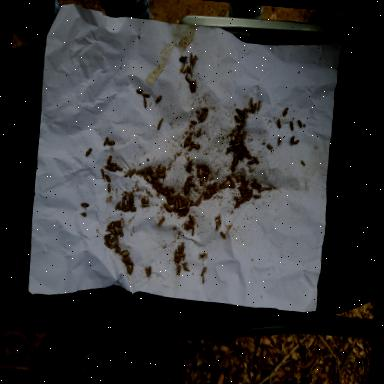pbw: (257, 98, 264, 114), (200, 264, 208, 278), (242, 189, 253, 199), (192, 55, 200, 68), (122, 169, 132, 179), (80, 202, 89, 213), (154, 94, 162, 106), (274, 136, 282, 148), (140, 98, 148, 109), (188, 215, 196, 226), (201, 112, 208, 124), (129, 192, 136, 204), (252, 100, 258, 114), (163, 203, 172, 212), (136, 168, 146, 176), (234, 200, 242, 210), (188, 160, 193, 176), (244, 150, 252, 160), (179, 62, 185, 75), (184, 181, 190, 194), (156, 119, 162, 132), (103, 135, 109, 147), (158, 216, 164, 228), (179, 54, 188, 62), (196, 166, 202, 178), (100, 168, 106, 180), (231, 156, 238, 166), (288, 136, 295, 146), (191, 143, 201, 150), (101, 164, 112, 170), (186, 140, 194, 148), (198, 252, 206, 260), (160, 188, 168, 196), (156, 170, 164, 178), (252, 156, 260, 164), (110, 235, 118, 243), (188, 180, 196, 188), (104, 174, 112, 182), (114, 165, 123, 172), (240, 120, 247, 129), (129, 168, 135, 178), (145, 264, 150, 276), (176, 266, 182, 276), (186, 200, 192, 210), (283, 107, 289, 117), (118, 228, 124, 238), (106, 140, 116, 146), (115, 201, 121, 211), (181, 242, 186, 254), (243, 108, 248, 120), (298, 118, 304, 128), (250, 184, 260, 190), (86, 148, 92, 158), (242, 131, 247, 143), (136, 88, 146, 94), (188, 130, 193, 142), (196, 198, 202, 208), (202, 251, 208, 261), (289, 120, 294, 132), (126, 200, 133, 208), (246, 106, 253, 114), (186, 76, 194, 83), (171, 196, 178, 204), (241, 142, 248, 150), (220, 232, 227, 240), (229, 138, 236, 146), (159, 166, 166, 174), (104, 225, 112, 232), (129, 265, 134, 276), (147, 266, 152, 277), (166, 197, 172, 206), (235, 108, 244, 114), (184, 208, 190, 217), (236, 125, 242, 134), (107, 155, 112, 165), (107, 184, 112, 194), (118, 205, 128, 210), (186, 66, 191, 76), (117, 246, 122, 256), (186, 224, 193, 231), (106, 196, 112, 204), (144, 92, 152, 98), (186, 160, 190, 172), (122, 256, 130, 262), (218, 216, 222, 228), (234, 116, 242, 122), (184, 138, 188, 150), (202, 171, 210, 177), (186, 176, 194, 182), (178, 194, 184, 202), (215, 222, 219, 234), (234, 150, 240, 158), (189, 64, 193, 76), (184, 222, 190, 230), (183, 266, 191, 272), (228, 182, 236, 188), (126, 260, 134, 266), (146, 174, 152, 182), (254, 182, 262, 188), (108, 167, 117, 172), (162, 169, 166, 180), (120, 217, 124, 228), (122, 196, 126, 207), (190, 53, 194, 64), (144, 167, 148, 178), (174, 249, 178, 260), (108, 221, 114, 228), (106, 232, 113, 238), (104, 242, 110, 249), (179, 252, 186, 258), (130, 206, 137, 212), (170, 206, 176, 213), (292, 140, 299, 146), (248, 160, 255, 166), (182, 67, 188, 74), (239, 115, 245, 122), (175, 200, 179, 210), (120, 250, 128, 255), (104, 235, 109, 243), (140, 204, 150, 208), (202, 274, 206, 284), (122, 208, 130, 213), (181, 208, 186, 216), (220, 184, 228, 189), (178, 245, 182, 255), (110, 230, 116, 236), (237, 132, 243, 138), (226, 149, 232, 155), (216, 214, 222, 220), (112, 221, 116, 230), (188, 184, 191, 196), (268, 143, 274, 149), (233, 144, 239, 150), (114, 228, 120, 234), (107, 239, 112, 246), (259, 187, 266, 192), (201, 176, 206, 183), (109, 162, 117, 166), (264, 186, 272, 190), (122, 252, 130, 256), (253, 194, 261, 198), (209, 191, 217, 195), (141, 200, 149, 204), (178, 206, 186, 210), (201, 106, 209, 110), (234, 142, 242, 146), (127, 264, 130, 274), (182, 261, 188, 266), (178, 200, 182, 207), (191, 202, 198, 206), (240, 189, 244, 196), (251, 97, 254, 106), (116, 238, 119, 246), (110, 246, 116, 250), (115, 245, 118, 253), (191, 121, 198, 124), (192, 226, 194, 236)
